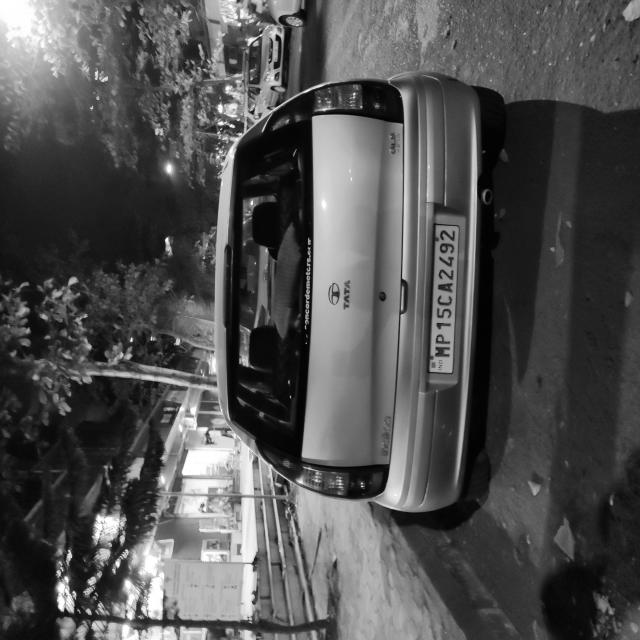car: (91, 281, 428, 640)
license-plate: (194, 570, 310, 618)
